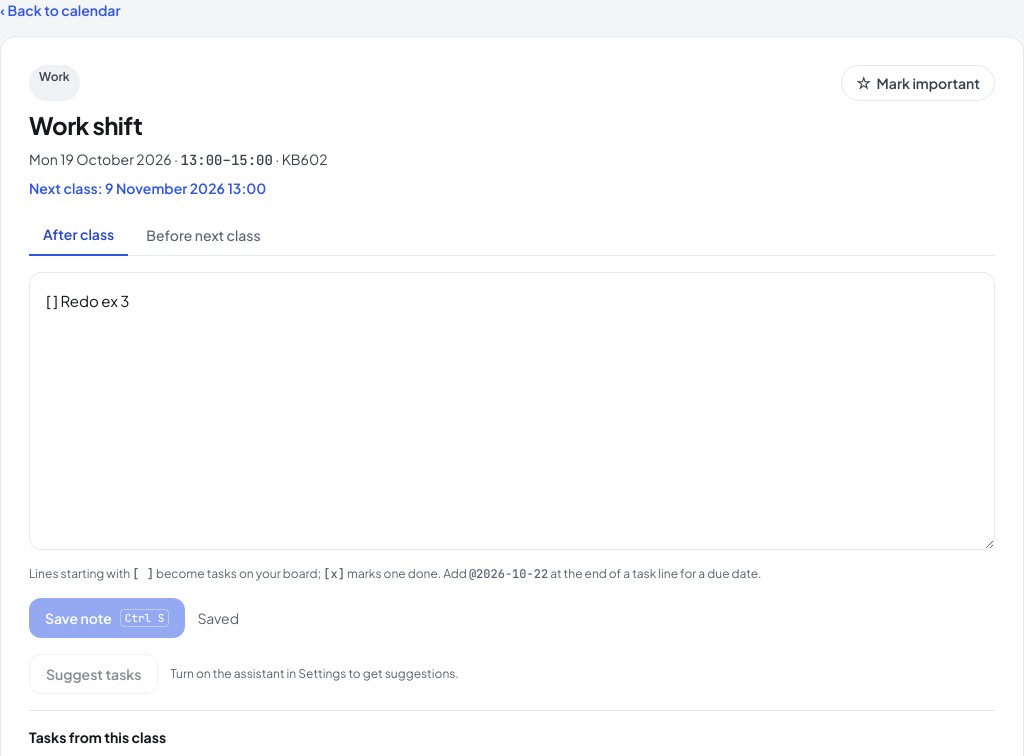
Scenario: EventPage › deleting an event with an unsaved draft does not ask to leave and clears the drafts
Type " more" into the text box named "After class note" at {"x": 512, "y": 411}, box [29,272,995,550]
(page scrolled)
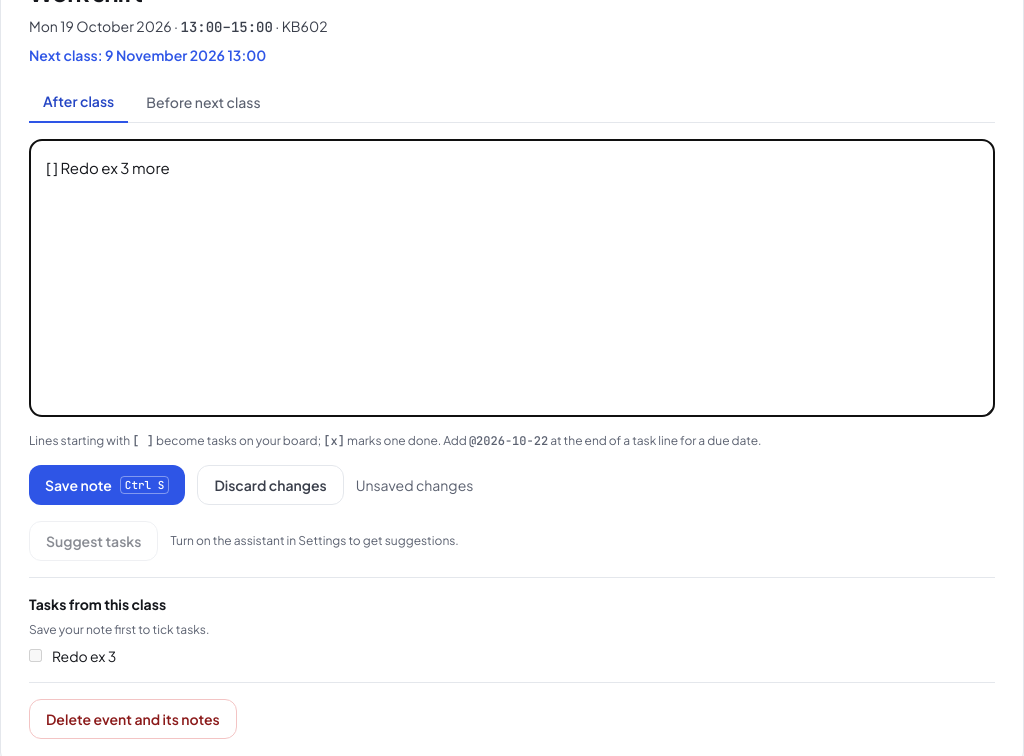
Click the button "Delete event and its notes" at {"x": 133, "y": 719}, box [29,699,237,739]
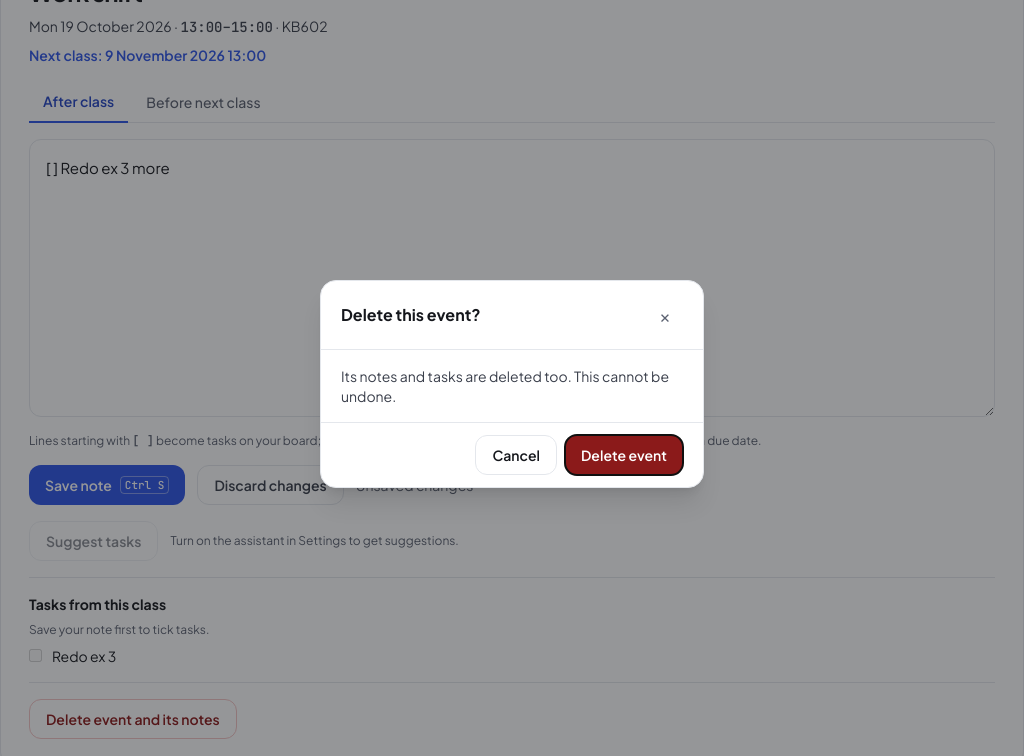
Click the button "Delete event" at {"x": 624, "y": 455}, box [565,435,683,475]
(page scrolled)
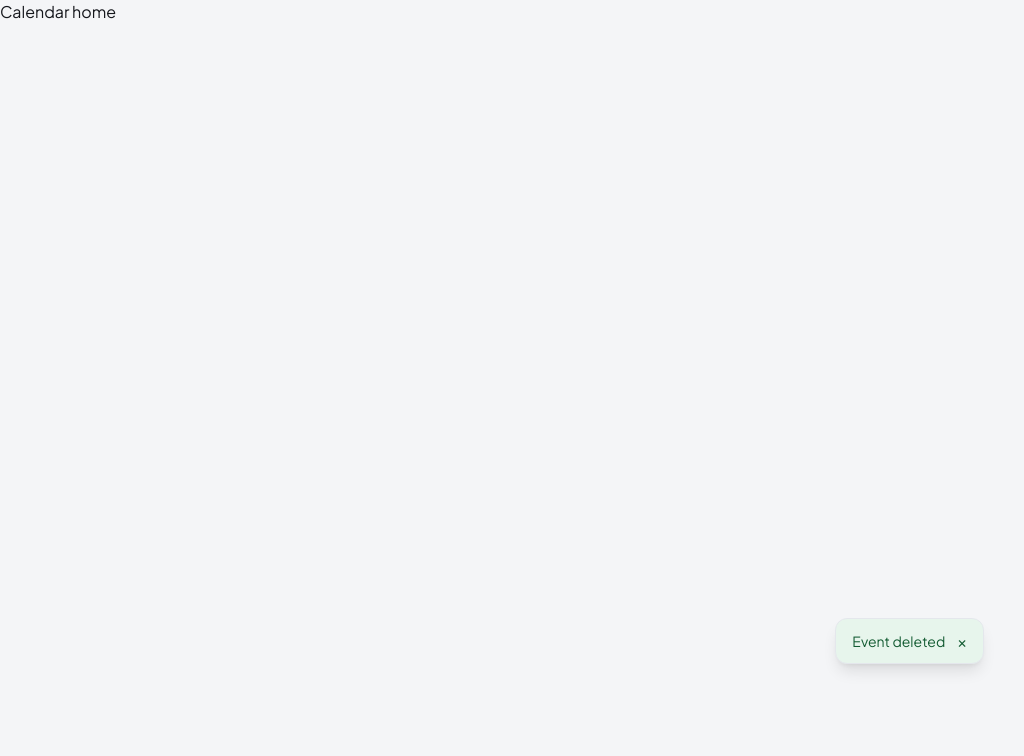
Result: the text "Calendar home" is shown at [0,1,116,22]
